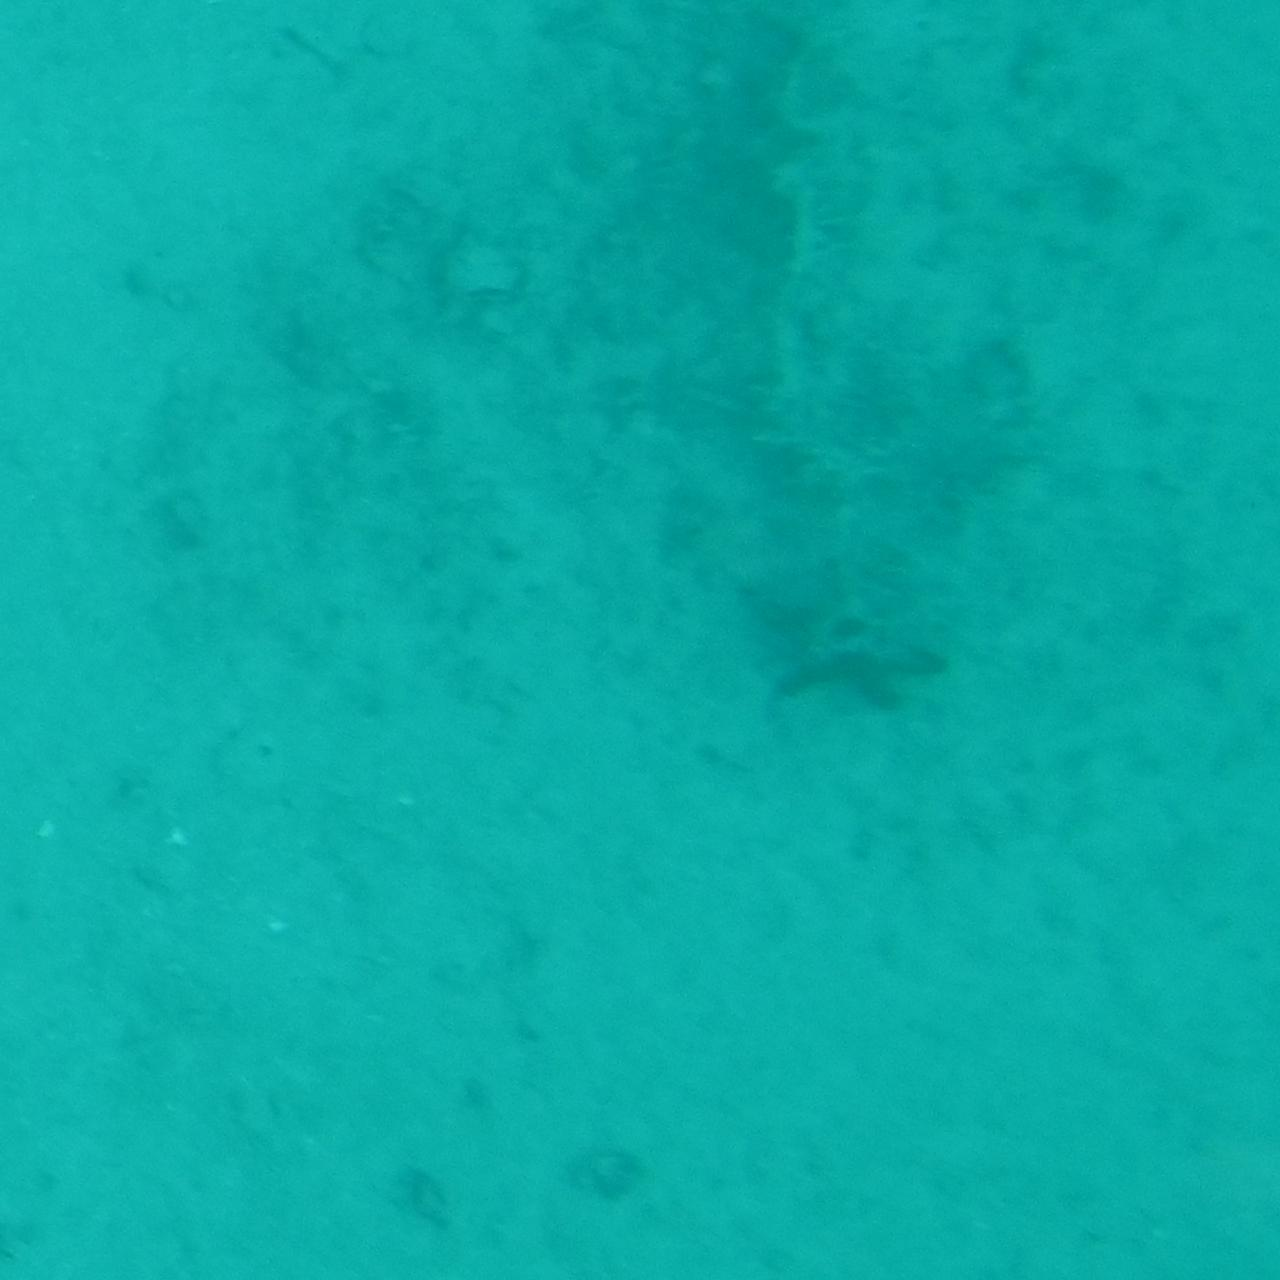Asteroidea: (720, 551, 971, 729)
